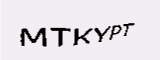Ж: (39, 19, 62, 34)
К: (71, 17, 83, 35)
У: (86, 12, 103, 34)
Э: (98, 12, 123, 34), (58, 18, 72, 38)
